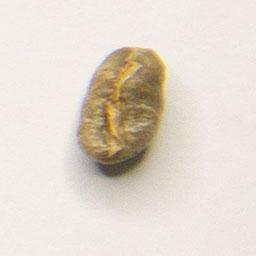defect: (72, 41, 171, 174)
